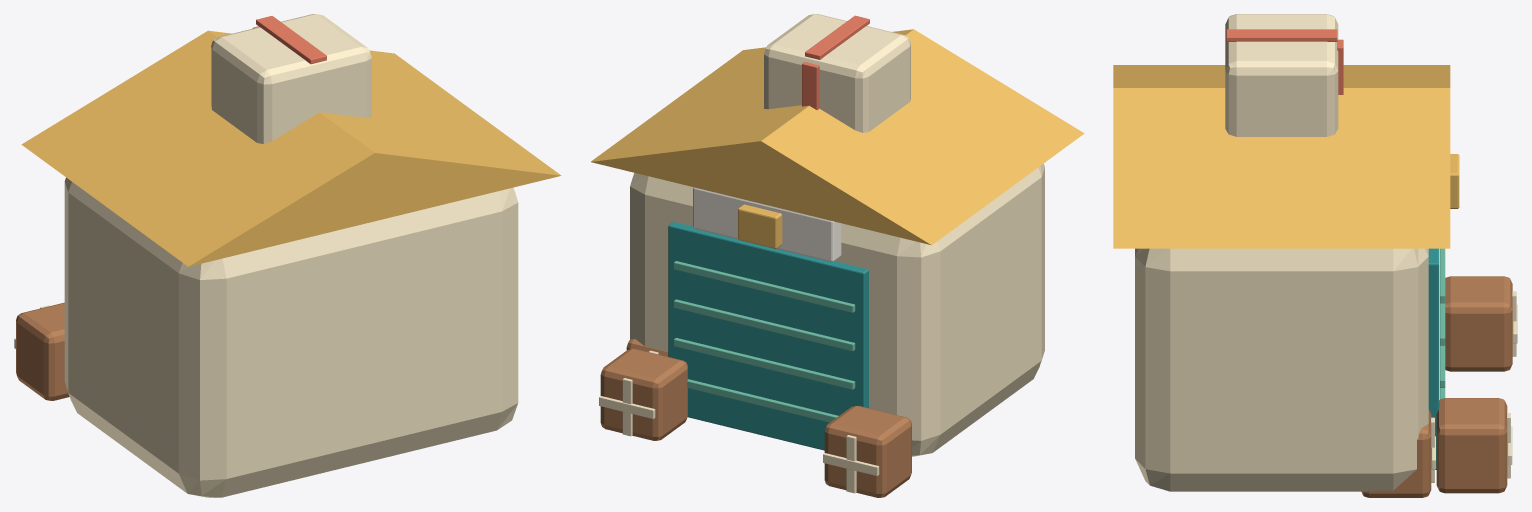
Rendered from depot.glb.
3 views of the same model, side by side, from view 1: azimuth 30°, elevation 25°; view 2: azimuth 150°, elevation 25°; view 3: azimuth 270°, elevation 25° (orthographic). The views are drawn at different scales.
Parts seen in each view (by area): view 1: depot; view 2: depot; view 3: depot.
Part boxes in pixels (x1,y1,x2,y2): depot: [14, 14, 561, 497]; depot: [591, 14, 1084, 497]; depot: [1113, 14, 1517, 497].
Size of the model in its own units: 4 by 3.95 by 3.72.
